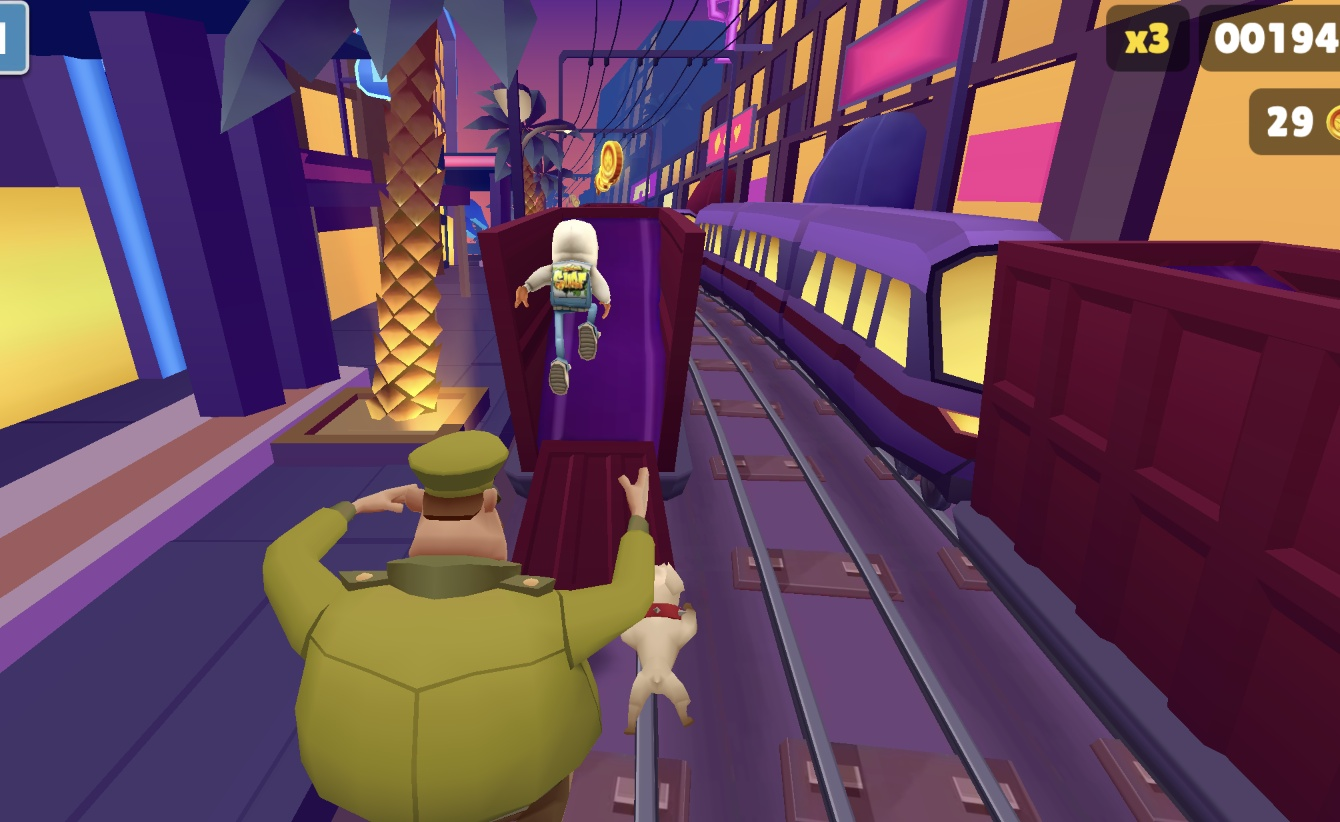train: (991, 235, 1340, 822), (684, 194, 996, 510), (473, 202, 706, 586)
